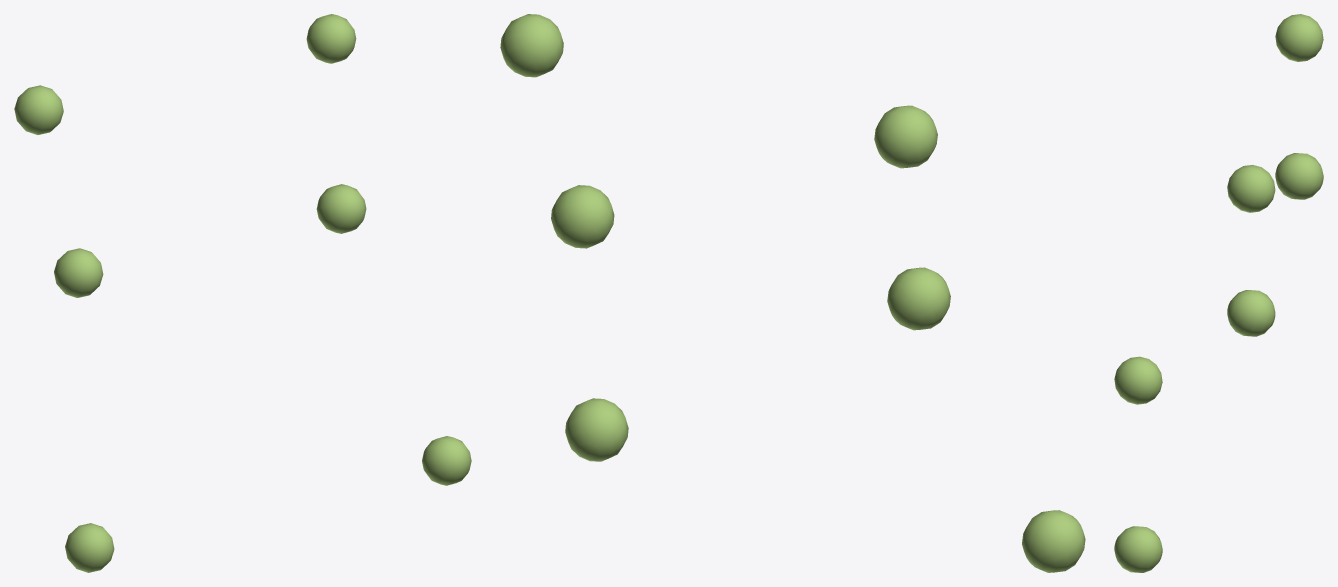
The model's file is superficial-anterior-cervical-nodes.glb.
3 renders of one model, left to right at view 1: azimuth 30°, elevation 25°; view 2: azimuth 150°, elevation 25°; view 3: azimuth 270°, elevation 25°, orthographic. The views are drawn at different scales.
Visible parts, largest first — view 1: Superficial anterior cervical nodes; view 2: Superficial anterior cervical nodes; view 3: Superficial anterior cervical nodes.
Part boxes in pixels (x1,y1,x2,y2): Superficial anterior cervical nodes: (14, 14, 471, 572); Superficial anterior cervical nodes: (500, 14, 1085, 572); Superficial anterior cervical nodes: (1114, 14, 1323, 572).
Bounding box in the file's own units: 0.0239 × 0.0237 × 0.0112.
